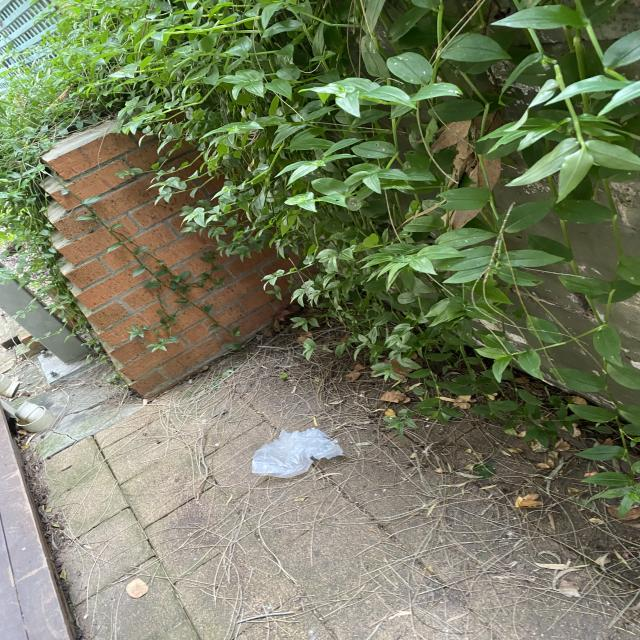cloth: (248, 427, 340, 479)
